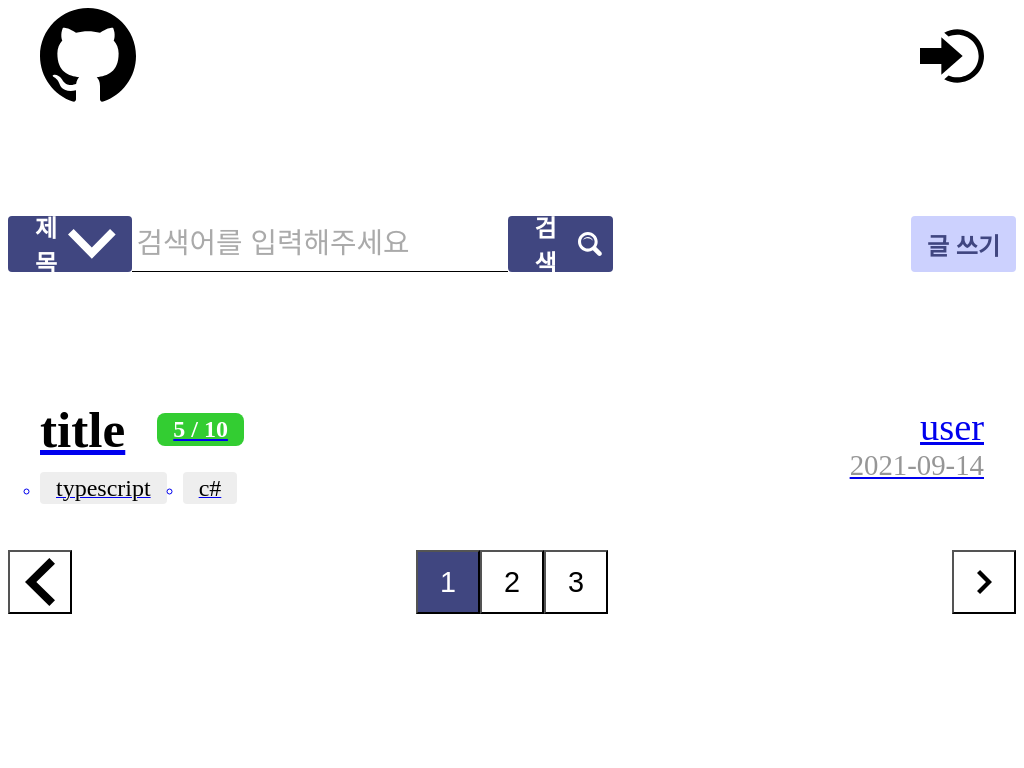
Test case: <Board> 페이지 › 로그인 없이 글 쓰기 버튼 클릭 시 에러
The image size is (1024, 768).
Click the button "글 쓰기" at (964, 244), box [911,216,1016,272]
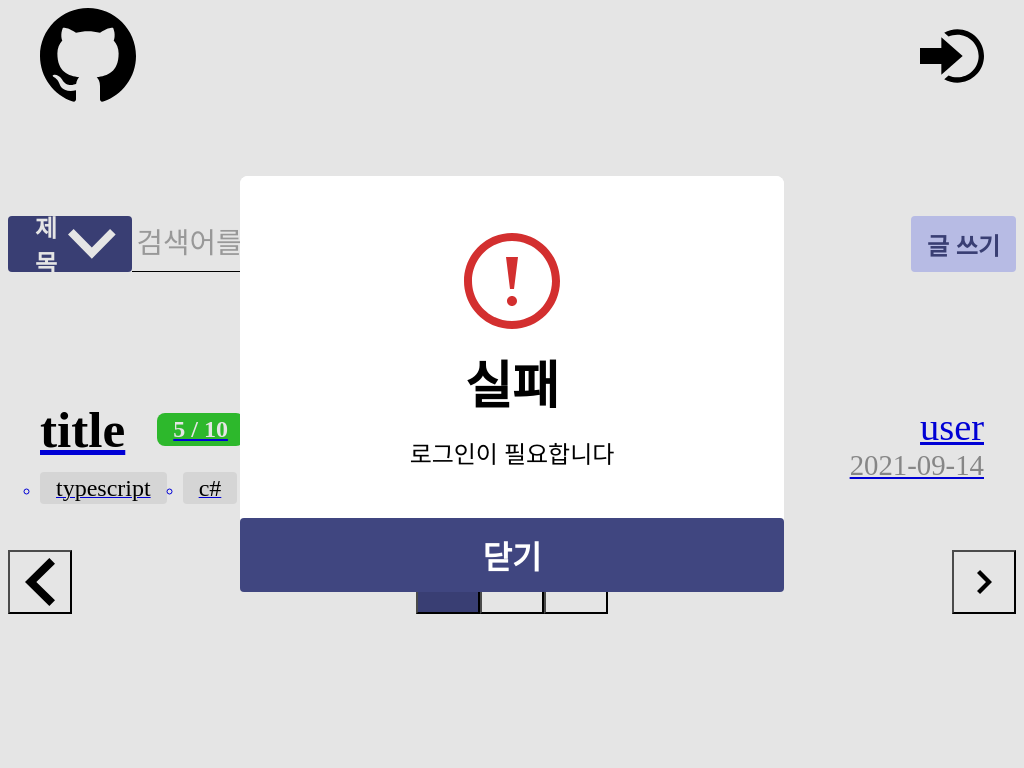
Expected: the text "로그인이 필요합니다" is shown, [410,442,614,468]
